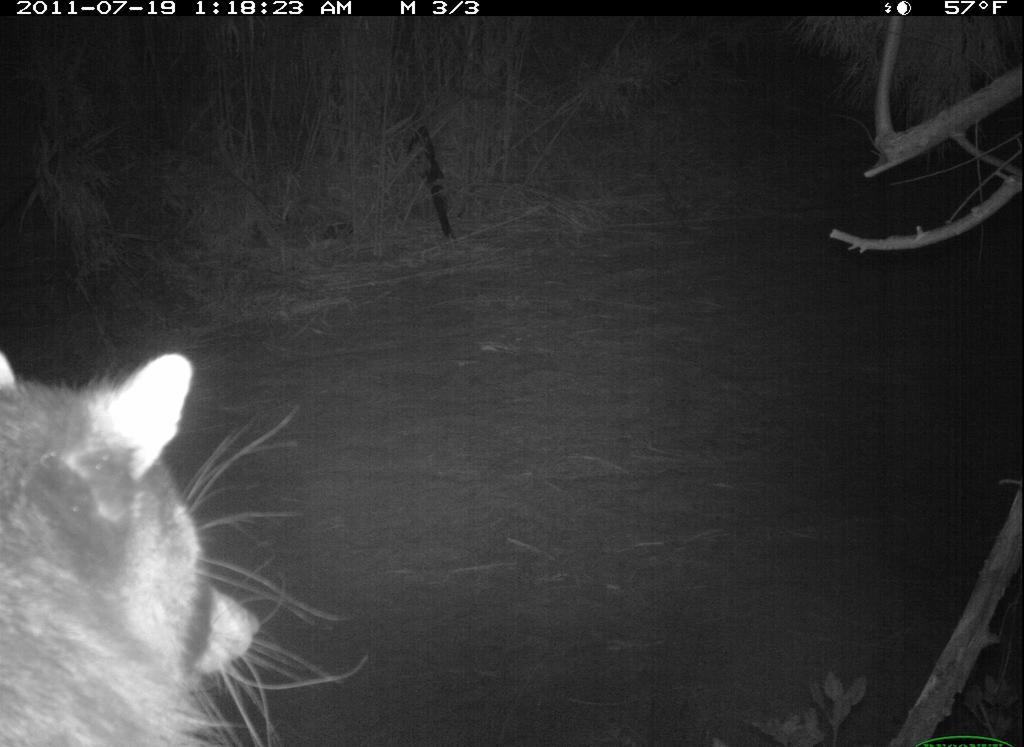raccoon: (1, 326, 332, 747)
